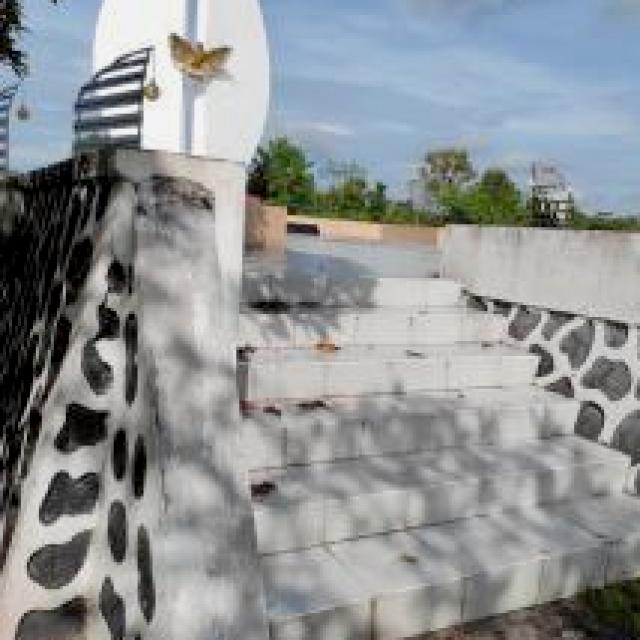upstair: (234, 255, 640, 635)
